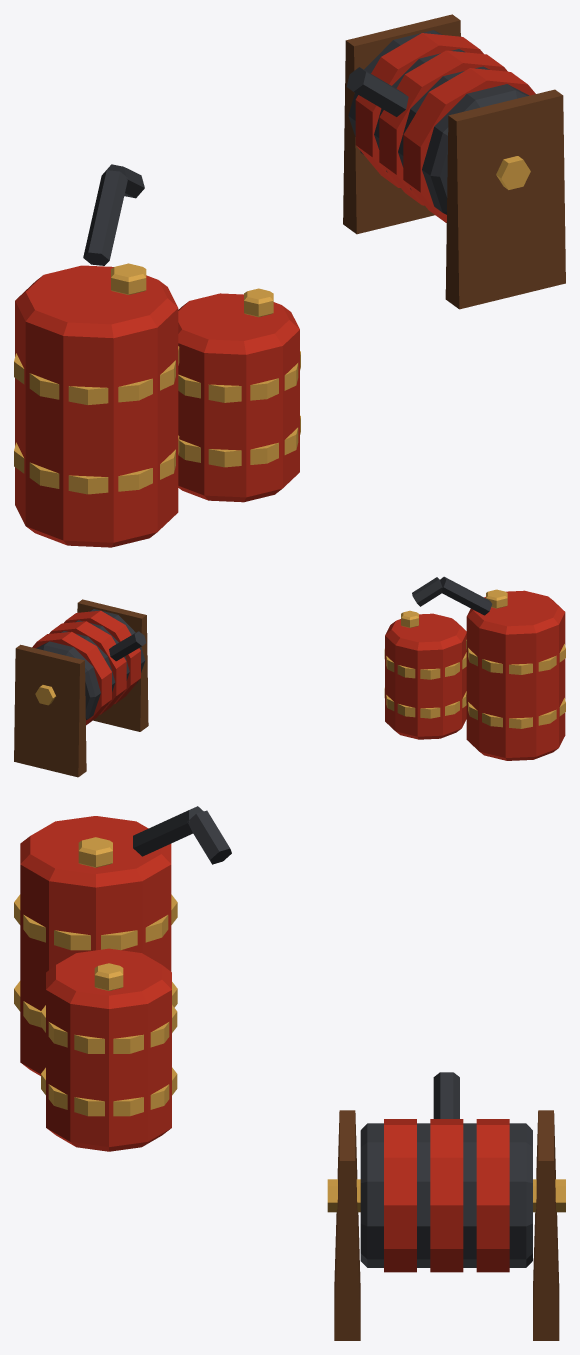
The model's file is MortarDressA1.obj.
3 renders of one model, top to bottom at view 1: azimuth 30°, elevation 25°; view 2: azimuth 150°, elevation 25°; view 3: azimuth 270°, elevation 25°, orthographic. The views are drawn at different scales.
Parts seen in each view (by area): view 1: MortarDressA1; view 2: MortarDressA1; view 3: MortarDressA1.
Part boxes in pixels (x1,y1,x2,y2): MortarDressA1: (14,14,565,547); MortarDressA1: (14,576,565,777); MortarDressA1: (14,806,565,1340).
Bounding box in the file's own units: 1.14 × 0.4745 × 0.8336.
